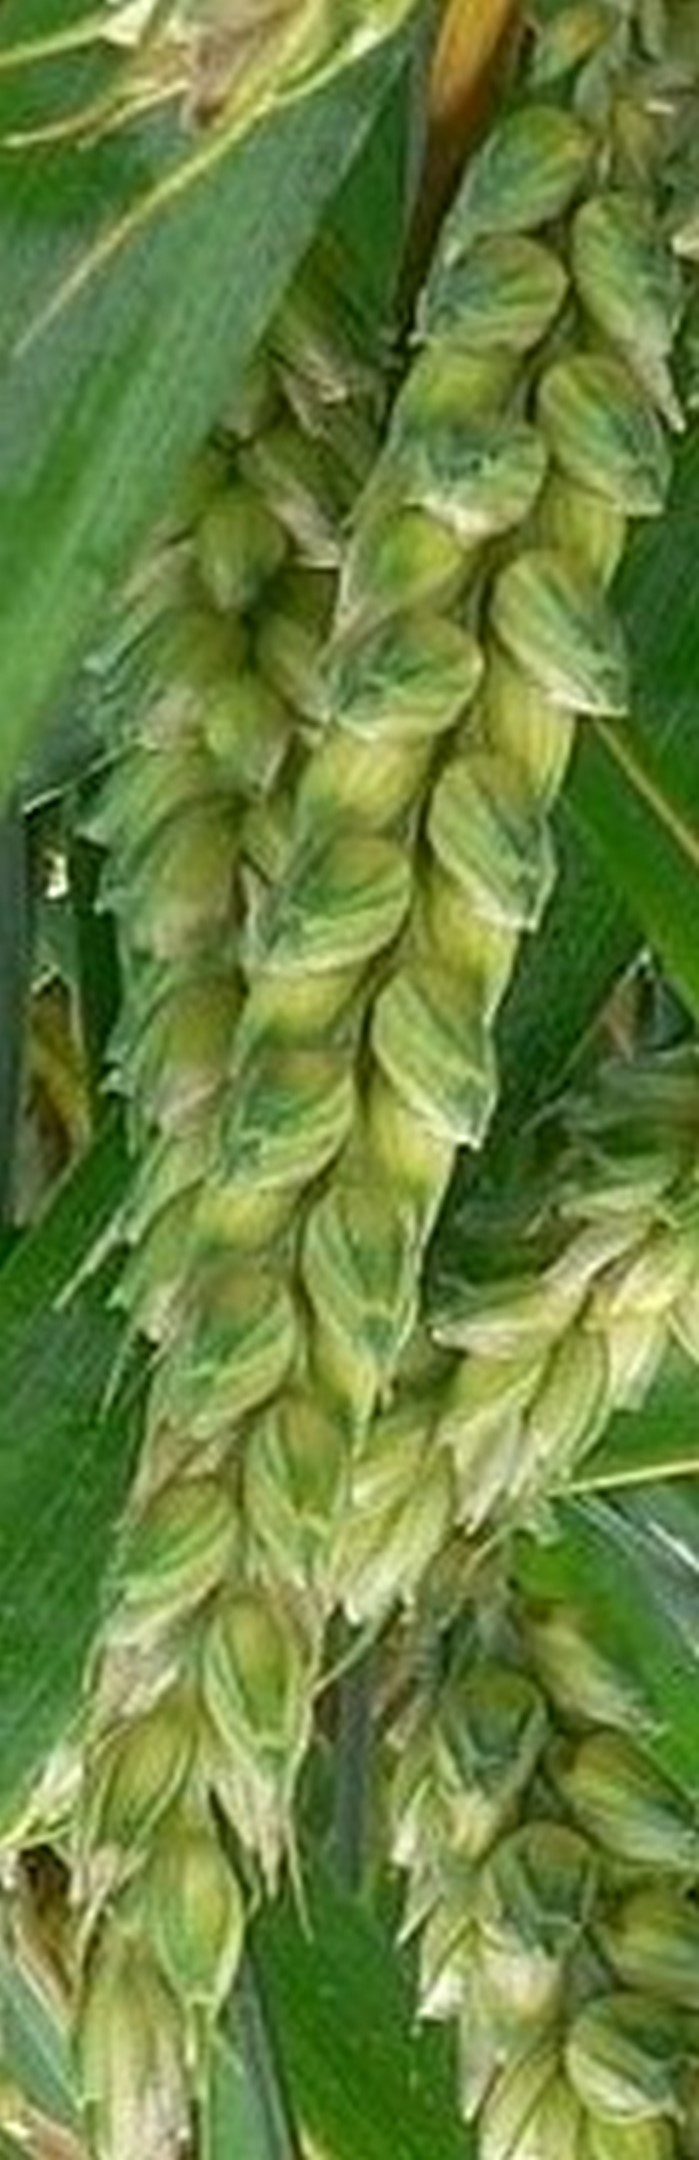Healthy Wheat: (79, 67, 699, 2002)
